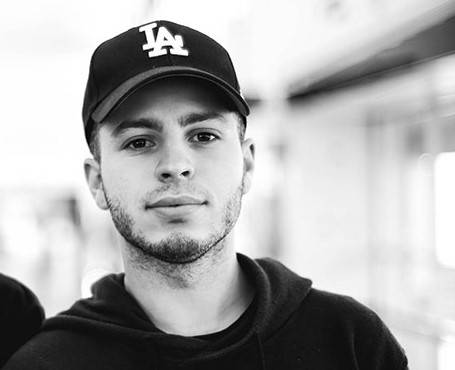BOY: (79, 83, 269, 265)
